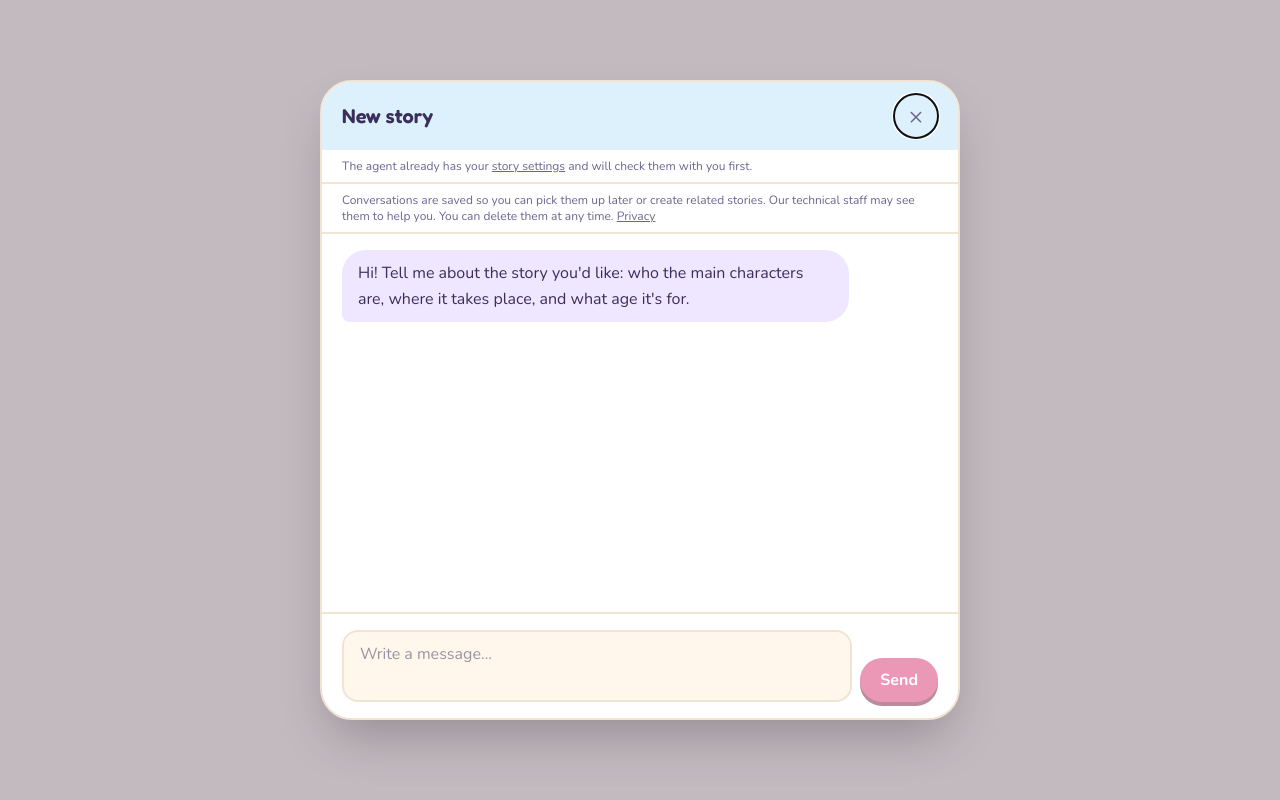
Test case: the conversation › shows the user's message and the agent's reply
Step 1. Type "a kind dragon" into the text box → (597, 666), box [342,630,852,702]
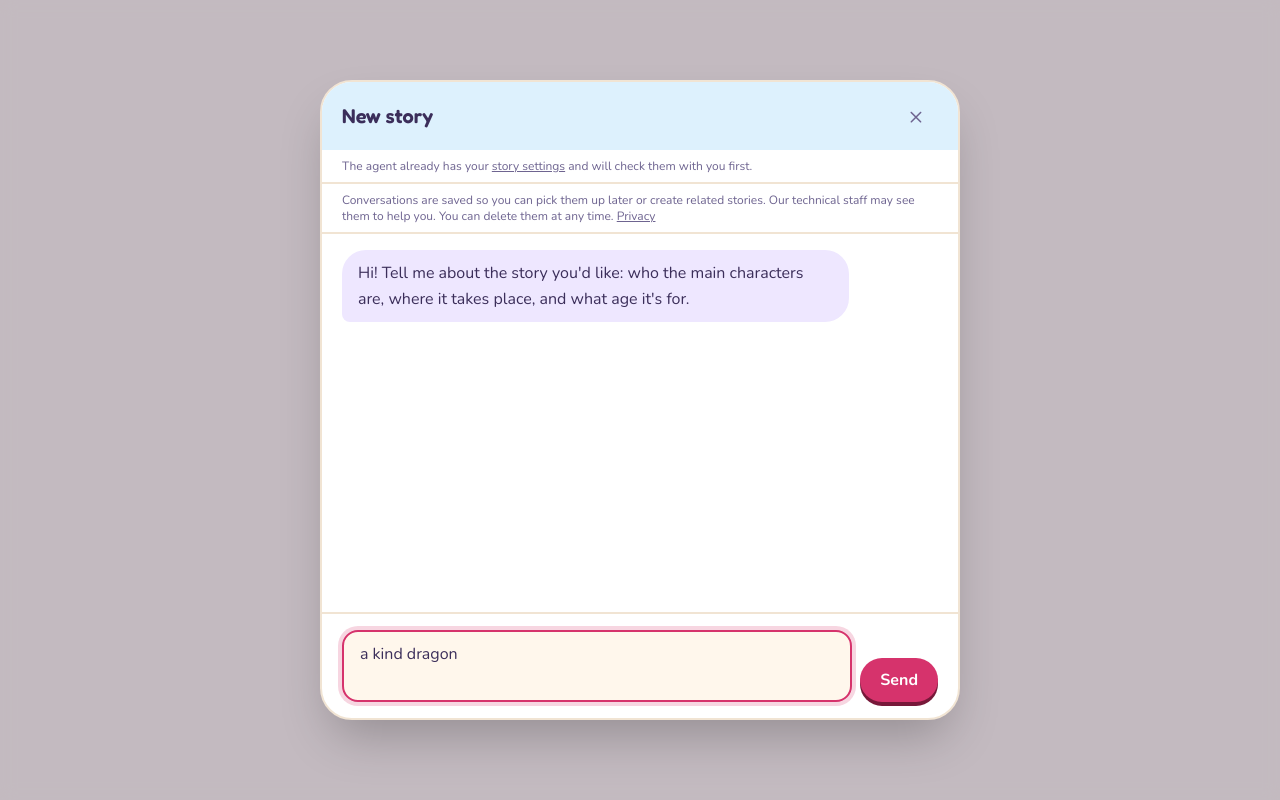
Step 2. Press Enter
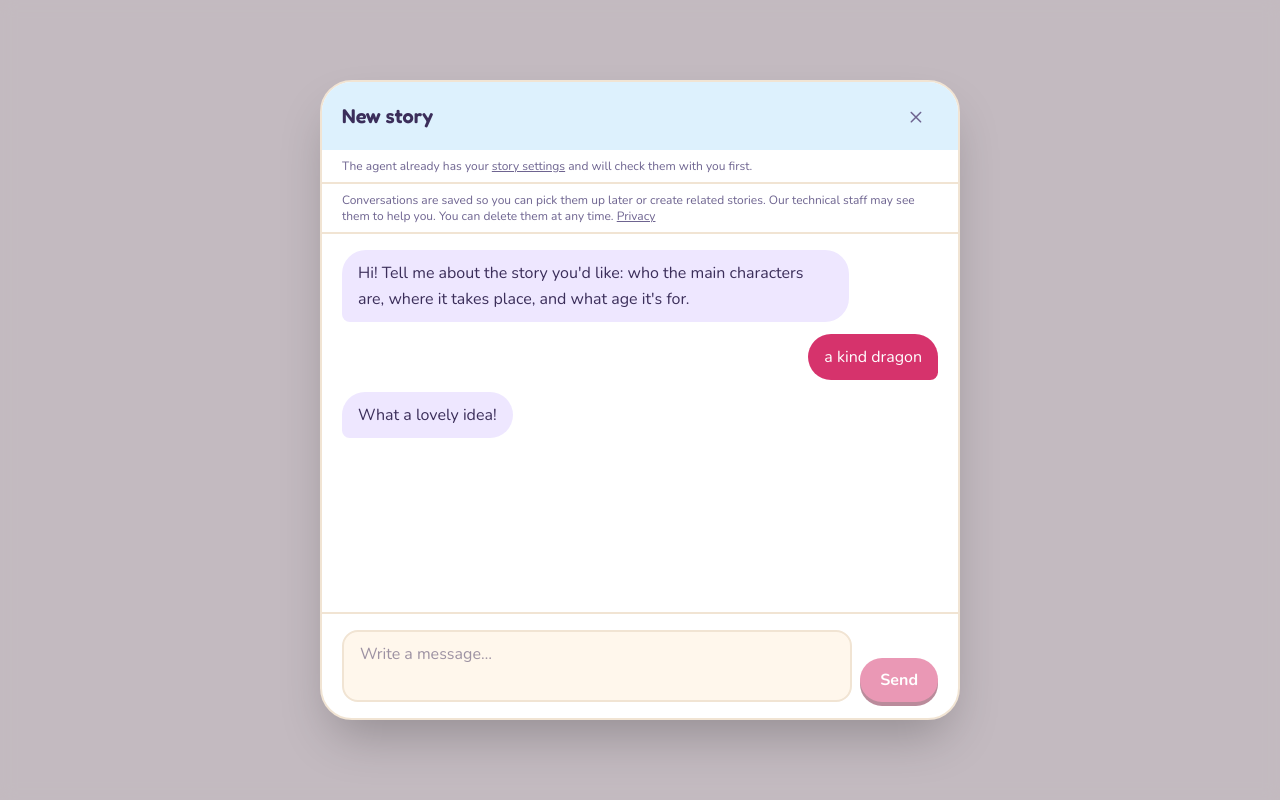
Now the text "What a lovely idea!" is shown, box [342,392,513,438]
Now the text "a kind dragon" is shown, box [808,334,938,380]
